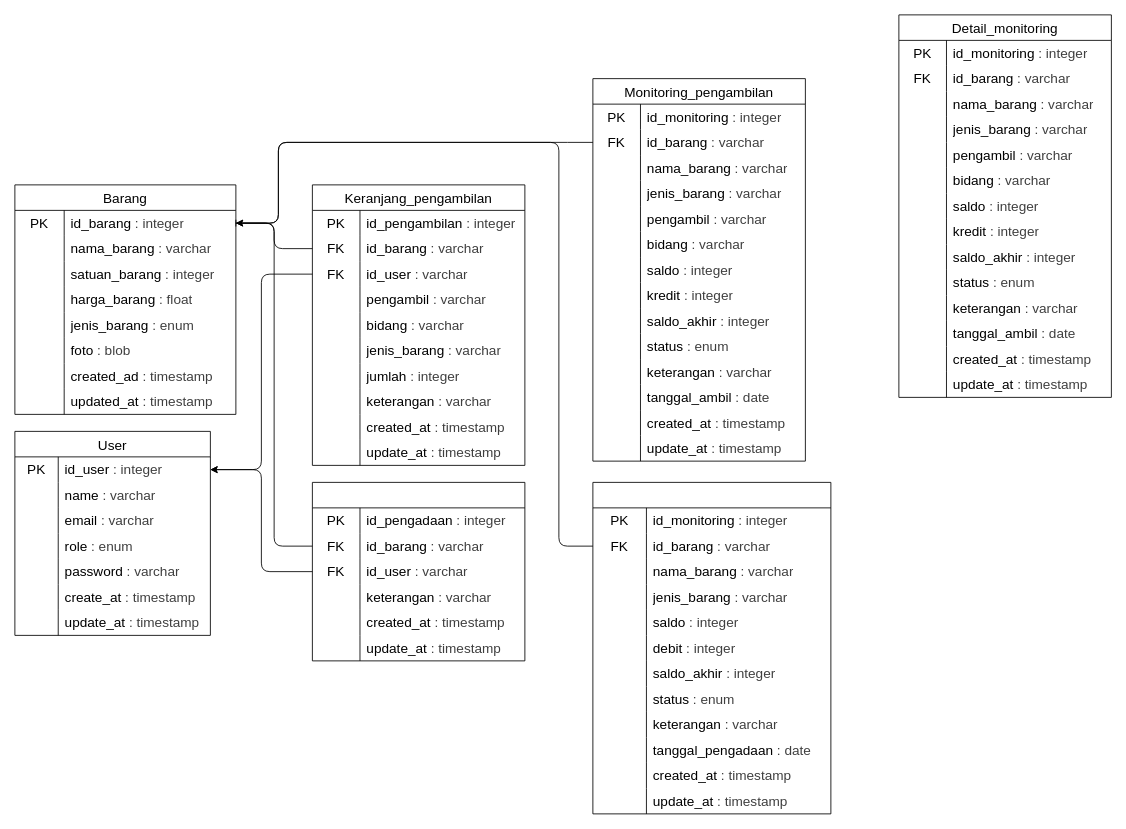
The diagram is 1126 pixels wide and 829 high, and some of its shapes have lost their labels. The shapes that lost their labels are listed below. From the top down, each one's box as (x1, y1, x2, y2) in pixels, then its label:
(312, 482, 525, 661): Keranjang_pengadaan
(592, 482, 831, 814): Monitoring_pengadaan
